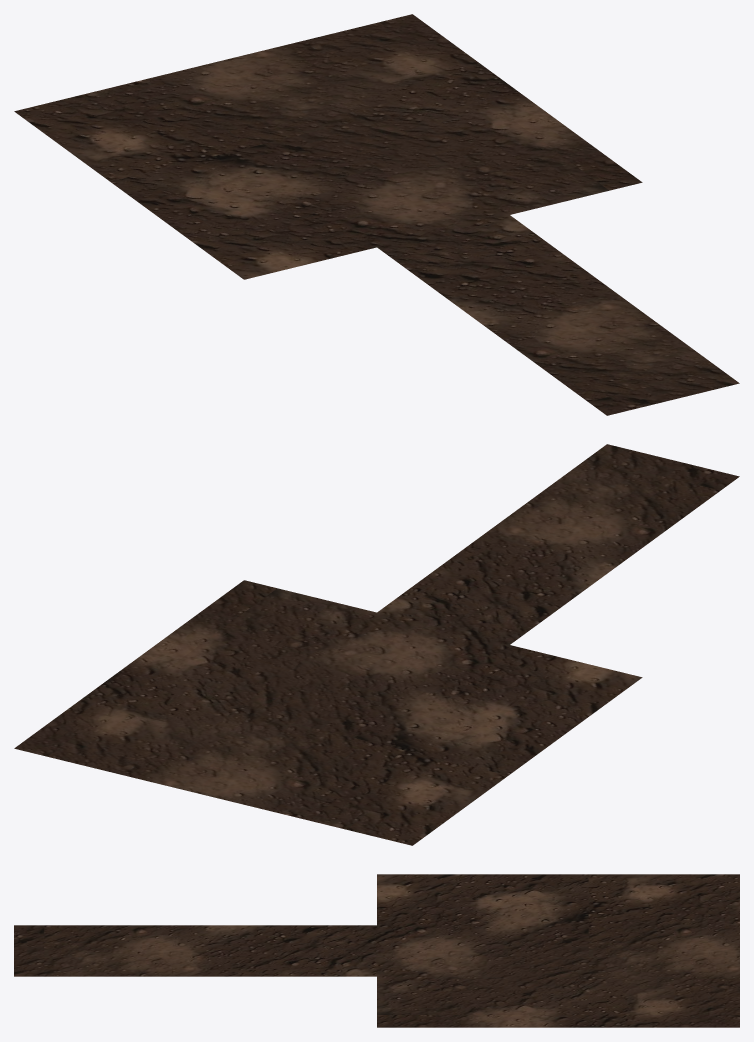
The model's file is floor_sec1.glb.
3 renders of one model, top to bottom at view 1: azimuth 30°, elevation 25°; view 2: azimuth 150°, elevation 25°; view 3: azimuth 270°, elevation 25°, orthographic. The views are drawn at different scales.
Visible parts, largest first — view 1: floor_sec1; view 2: floor_sec1; view 3: floor_sec1.
Boxes of the visible parts, x1,y1,x2,y2 form: floor_sec1: (14,14,739,415); floor_sec1: (14,444,739,845); floor_sec1: (14,874,739,1027).
Bounding box in the file's own units: 12 × 0 × 24.
1 material, 1 textured.
